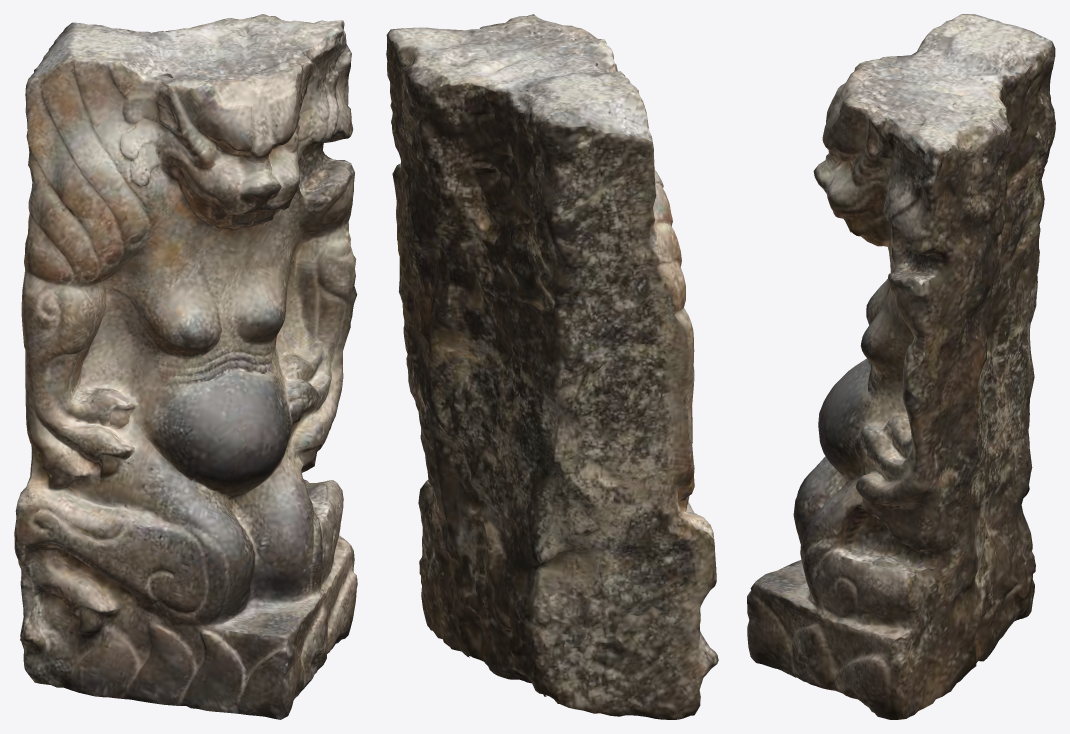
3 views of the same model, side by side, from view 1: azimuth 30°, elevation 25°; view 2: azimuth 150°, elevation 25°; view 3: azimuth 270°, elevation 25° (orthographic). The views are drawn at different scales.
Bounding box in the file's own units: 493 × 869 × 407.
Materials: 1 (1 with a texture image).
